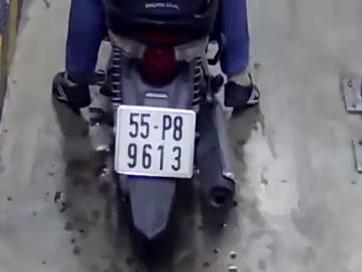num_plate: (115, 105, 196, 177)
